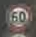limite 60: (4, 2, 33, 31)
